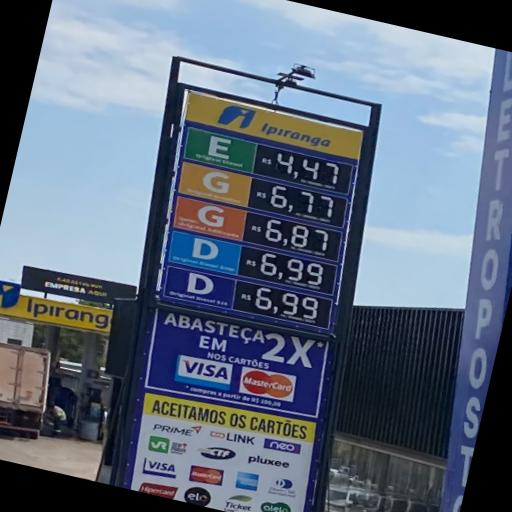ETANOL: (188, 128, 258, 172)
GASOLINA AD: (175, 198, 247, 240)
GASOLINA C: (178, 163, 252, 208)
S10: (165, 268, 235, 307)
S500: (169, 233, 242, 274)
placa: (160, 121, 357, 335)
preco: (269, 183, 340, 227), (273, 147, 345, 190), (258, 250, 331, 290), (263, 217, 335, 257), (253, 287, 322, 322)
